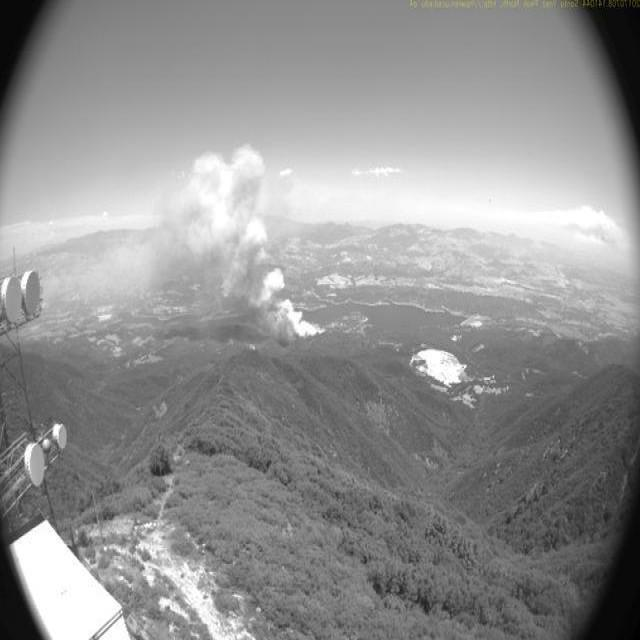Smoke: (75, 140, 329, 344)
